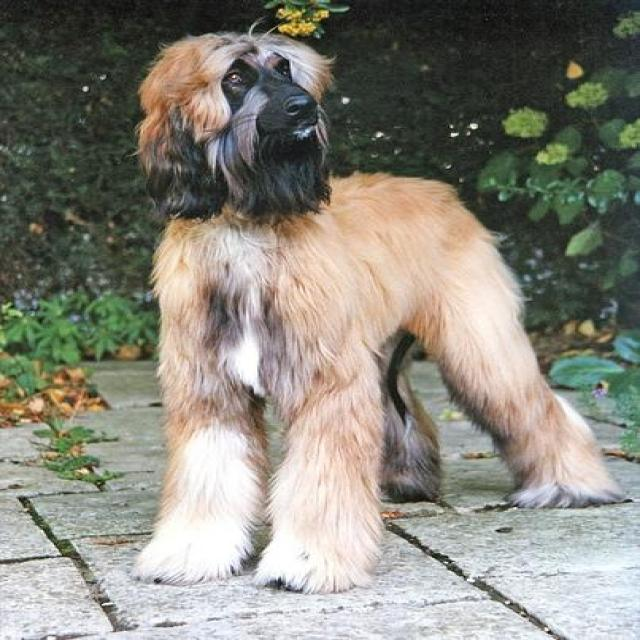afghan_hound: (132, 17, 626, 590)
